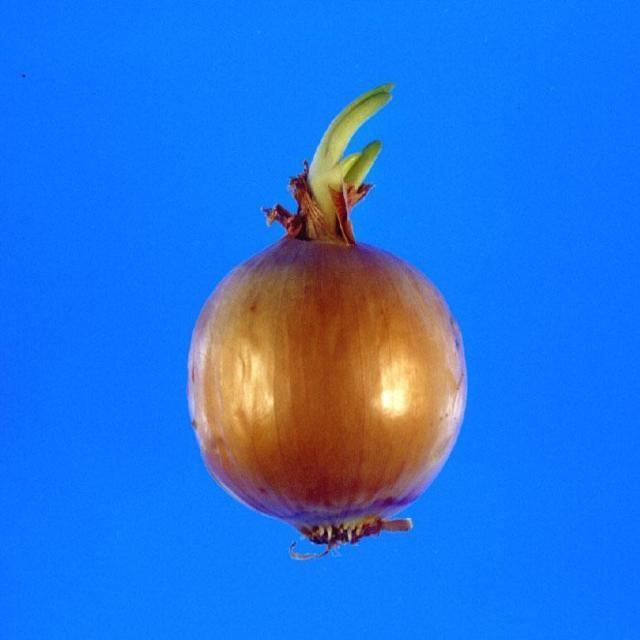Onion: (186, 180, 464, 563), (306, 84, 394, 229)
